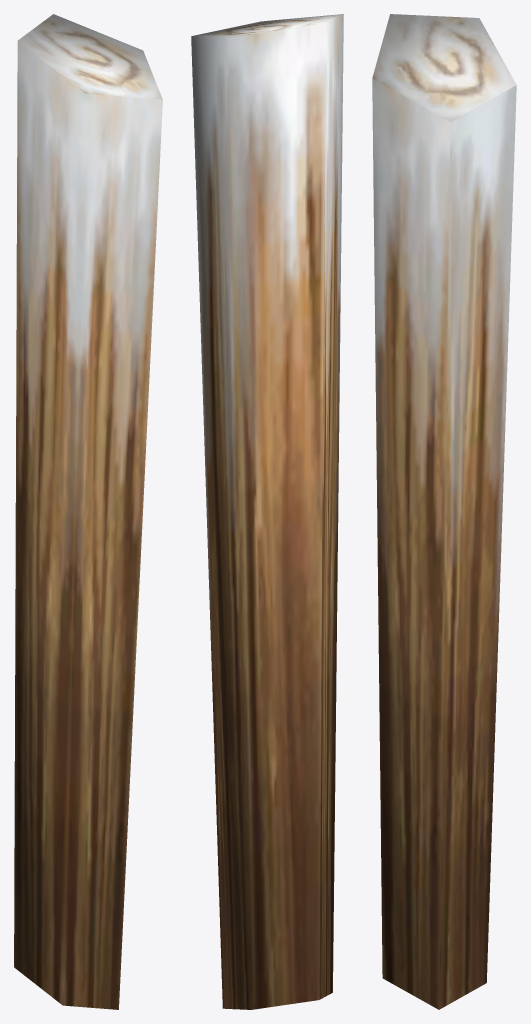
Rendered from SM_Enclosure_03.fbx.
The picture shows the model from 3 angles, left to right: view 1: azimuth 30°, elevation 25°; view 2: azimuth 150°, elevation 25°; view 3: azimuth 330°, elevation 25°; orthographic projection. The views are drawn at different scales.
Parts seen in each view (by area): view 1: SM_Enclosure_03; view 2: SM_Enclosure_03; view 3: SM_Enclosure_03.
Part boxes in pixels (<box>): SM_Enclosure_03: <box>14,14,162,1009</box>; SM_Enclosure_03: <box>191,14,343,1009</box>; SM_Enclosure_03: <box>372,14,516,1009</box>.
Bounding box in the file's own units: 0.7963 × 5.81 × 0.7624.
